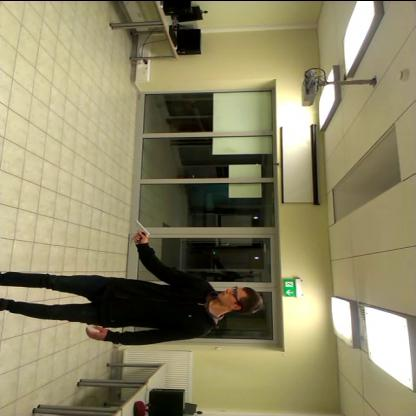Pistol: (124, 215, 160, 249)
